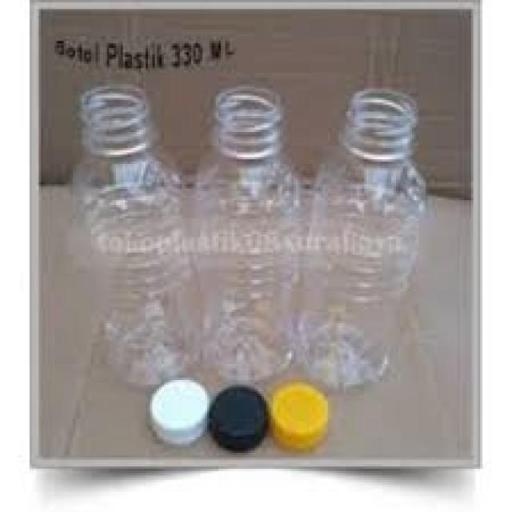plastic: (61, 86, 200, 391), (299, 83, 426, 392), (190, 87, 310, 388)
